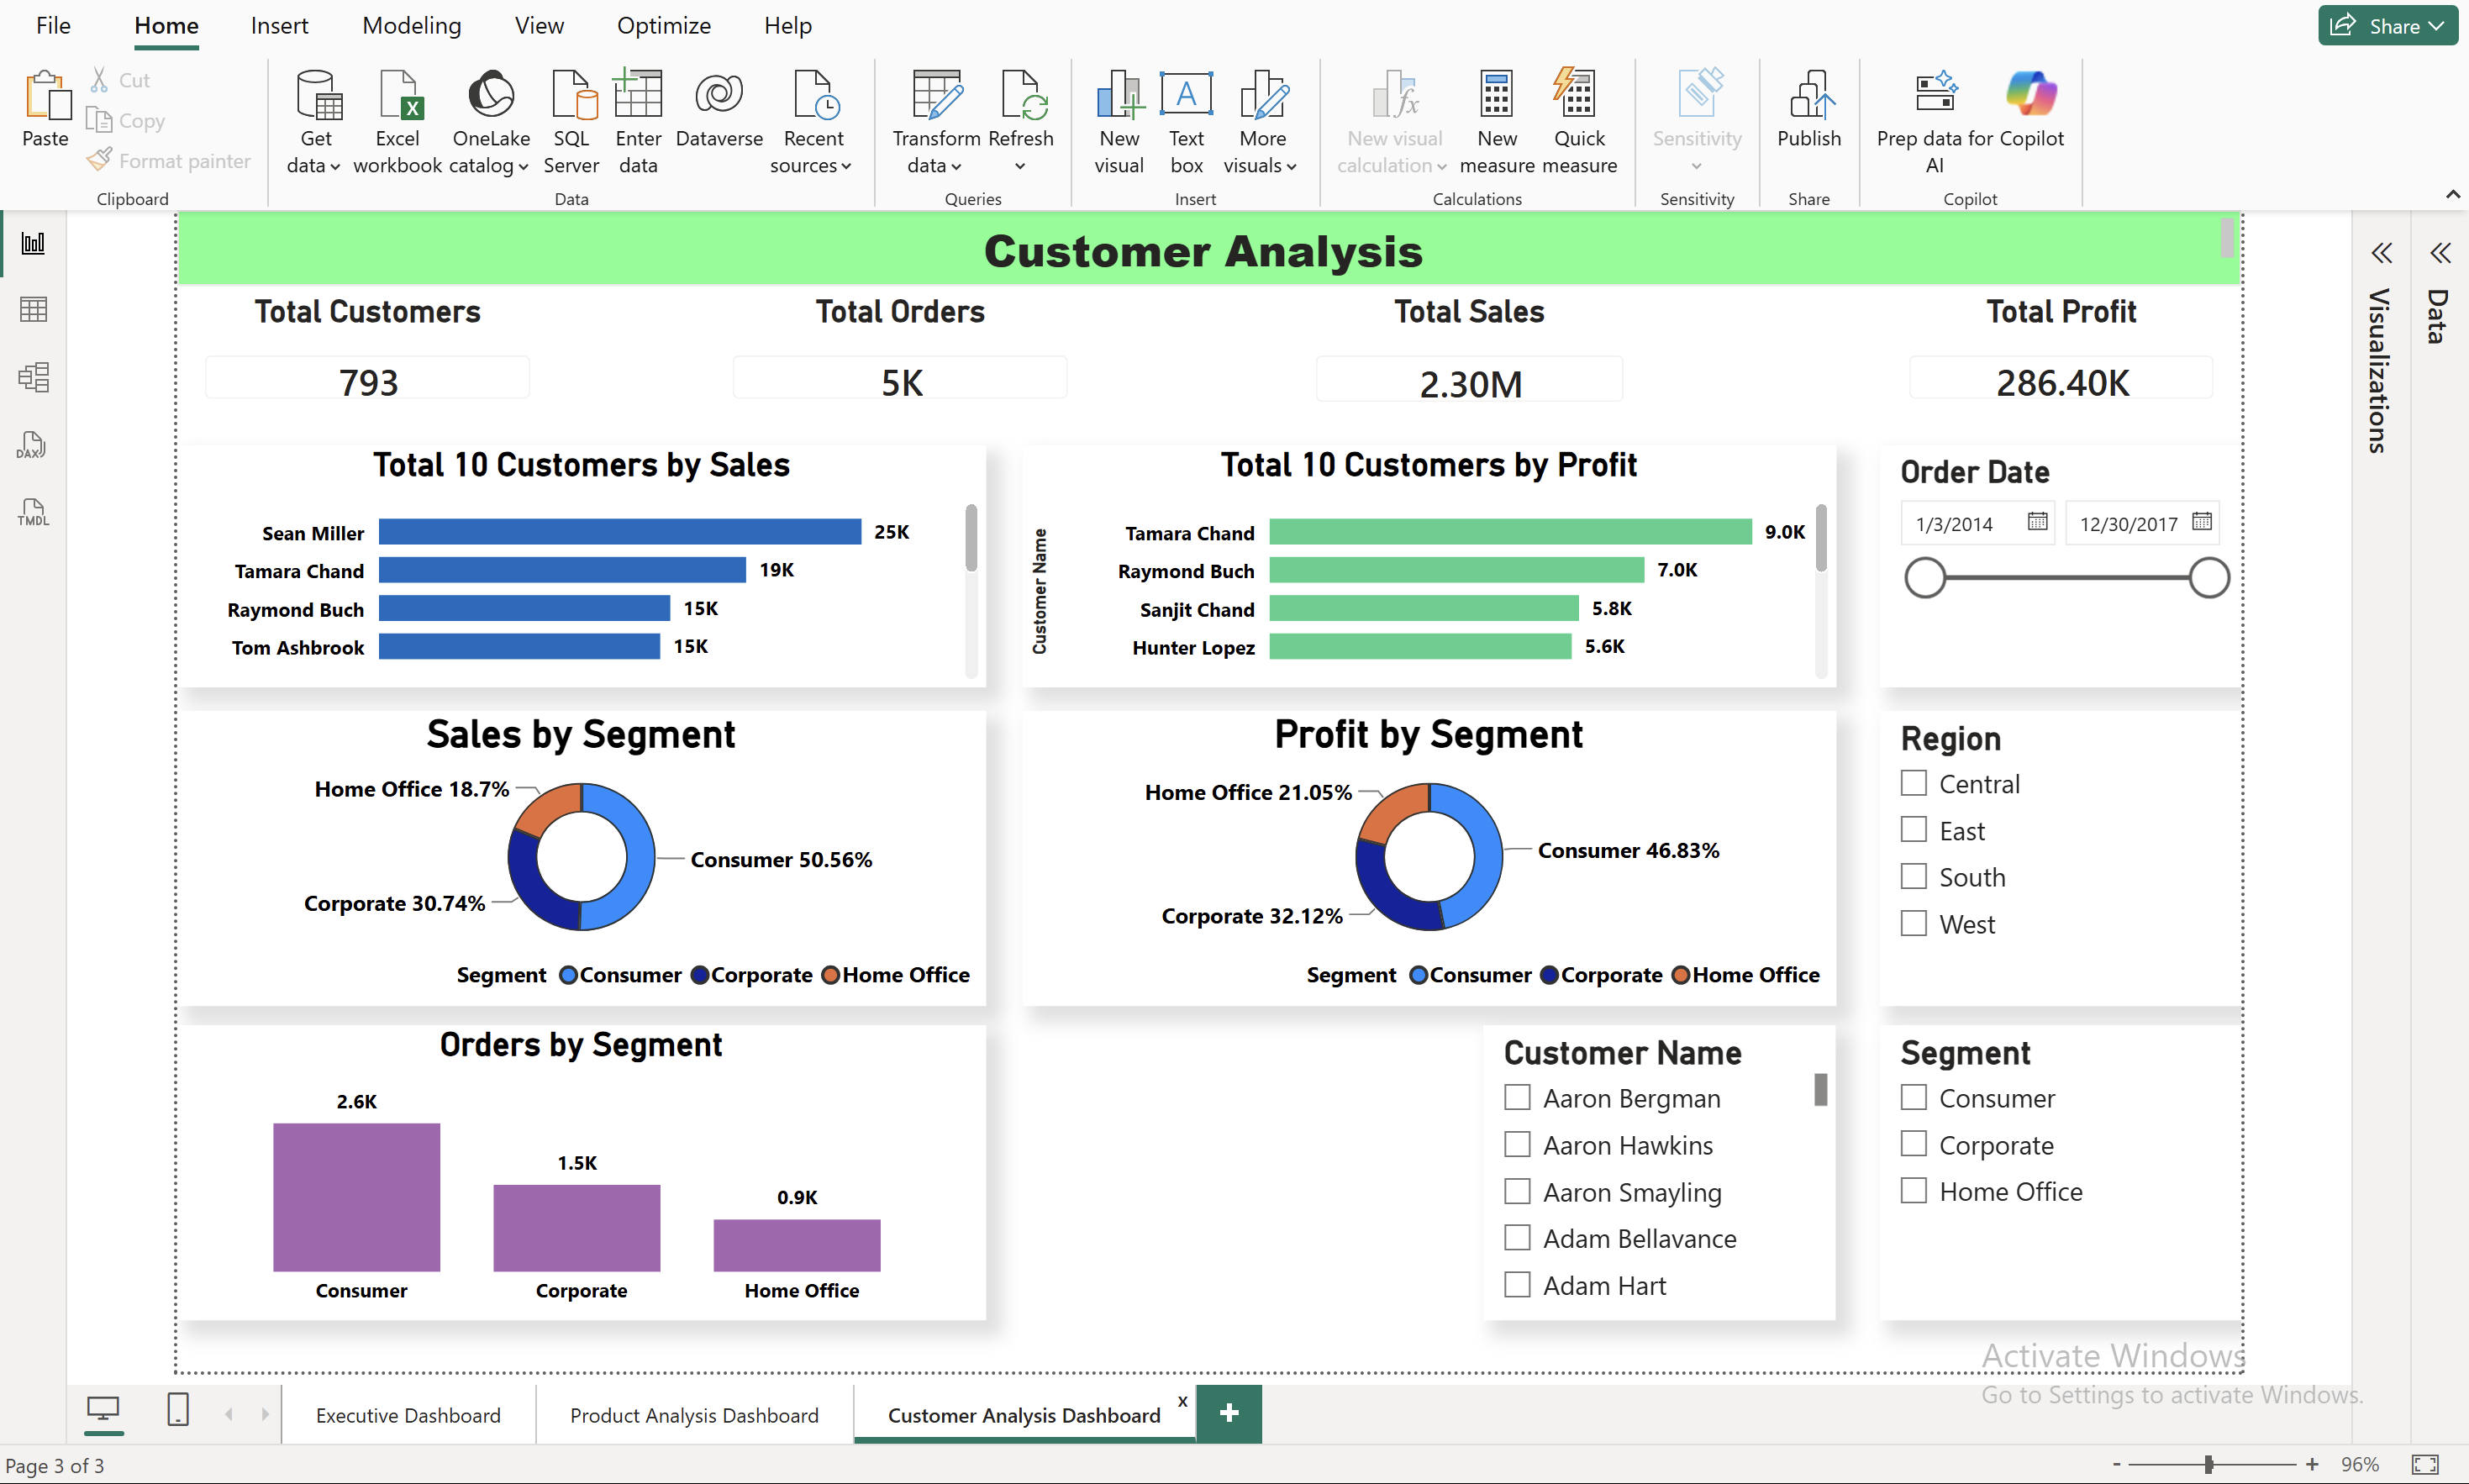

What the dashboard file says about the page in this screenshot:
{"tool":"powerbi","page":{"name":"Customer Analysis Dashboard","canvas":[1280,720],"ordinal":2},"visuals":[{"type":"textbox","box":[0,0,1280,47.1],"z":0},{"type":"cardVisual","title":"Total Customers","fields":{"Data":["Superstore_dataset.Total Customers"]},"box":[0,51.2,236.2,83.8],"z":1},{"type":"cardVisual","title":"Total Orders","fields":{"Data":["Superstore_dataset.Total Orders"]},"box":[327.5,51.2,242.5,83.8],"z":2},{"type":"cardVisual","title":"Total Sales","fields":{"Data":["Superstore_dataset.Total Sales"]},"box":[688.8,51.2,225,85],"z":3},{"type":"cardVisual","title":"Total Profit","fields":{"Data":["Superstore_dataset.Total Profit"]},"box":[1056.2,51.2,223.8,83.8],"z":4},{"type":"clusteredBarChart","title":"Total 10 Customers by Sales","fields":{"Category":["Superstore_dataset.Customer Name"],"Y":["Superstore_dataset.Total Sales"]},"box":[0,145.7,501.4,150],"z":5},{"type":"clusteredBarChart","title":"Total 10 Customers by Profit","fields":{"Category":["Superstore_dataset.Customer Name"],"Y":["Superstore_dataset.Total Profit"]},"box":[524.3,145.7,504.3,150],"z":6},{"type":"donutChart","title":"Sales by Segment","fields":{"Category":["Superstore_dataset.Segment"],"Y":["Superstore_dataset.Total Sales"]},"box":[0,310,501.4,182.9],"z":7},{"type":"donutChart","title":"Profit by Segment","fields":{"Category":["Superstore_dataset.Segment"],"Y":["Superstore_dataset.Total Profit"]},"box":[524.3,310,504.3,182.9],"z":8},{"type":"clusteredColumnChart","title":"Orders by Segment","fields":{"Category":["Superstore_dataset.Segment"],"Y":["Superstore_dataset.Total Orders"]},"box":[0,505.7,501.4,182.9],"z":9},{"type":"slicer","fields":{"Values":["Superstore_dataset.Order Date"]},"box":[1055.7,145.7,225.7,150],"z":10},{"type":"slicer","fields":{"Values":["Superstore_dataset.Region"]},"box":[1055.7,310,225.7,182.9],"z":11},{"type":"slicer","fields":{"Values":["Superstore_dataset.Segment"]},"box":[1055.7,505.7,225.7,182.9],"z":12},{"type":"slicer","fields":{"Values":["Superstore_dataset.Customer Name"]},"box":[810,505.7,218.6,182.9],"z":13}]}

Visuals, with their boxes on the page's 1280x720 design canvas (x1, y1, x2, y2). These are canvas units, not pixel positions in the 2469x1484 screenshot, which may show the page scaled, cropped or inside an application window:
textbox: (x1=0, y1=0, x2=1280, y2=47)
"Total Customers" cardVisual: (x1=0, y1=51, x2=236, y2=135)
"Total Orders" cardVisual: (x1=328, y1=51, x2=570, y2=135)
"Total Sales" cardVisual: (x1=689, y1=51, x2=914, y2=136)
"Total Profit" cardVisual: (x1=1056, y1=51, x2=1280, y2=135)
"Total 10 Customers by Sales" clusteredBarChart: (x1=0, y1=146, x2=501, y2=296)
"Total 10 Customers by Profit" clusteredBarChart: (x1=524, y1=146, x2=1029, y2=296)
"Sales by Segment" donutChart: (x1=0, y1=310, x2=501, y2=493)
"Profit by Segment" donutChart: (x1=524, y1=310, x2=1029, y2=493)
"Orders by Segment" clusteredColumnChart: (x1=0, y1=506, x2=501, y2=689)
slicer - Superstore_dataset.Order Date: (x1=1056, y1=146, x2=1281, y2=296)
slicer - Superstore_dataset.Region: (x1=1056, y1=310, x2=1281, y2=493)
slicer - Superstore_dataset.Segment: (x1=1056, y1=506, x2=1281, y2=689)
slicer - Superstore_dataset.Customer Name: (x1=810, y1=506, x2=1029, y2=689)
